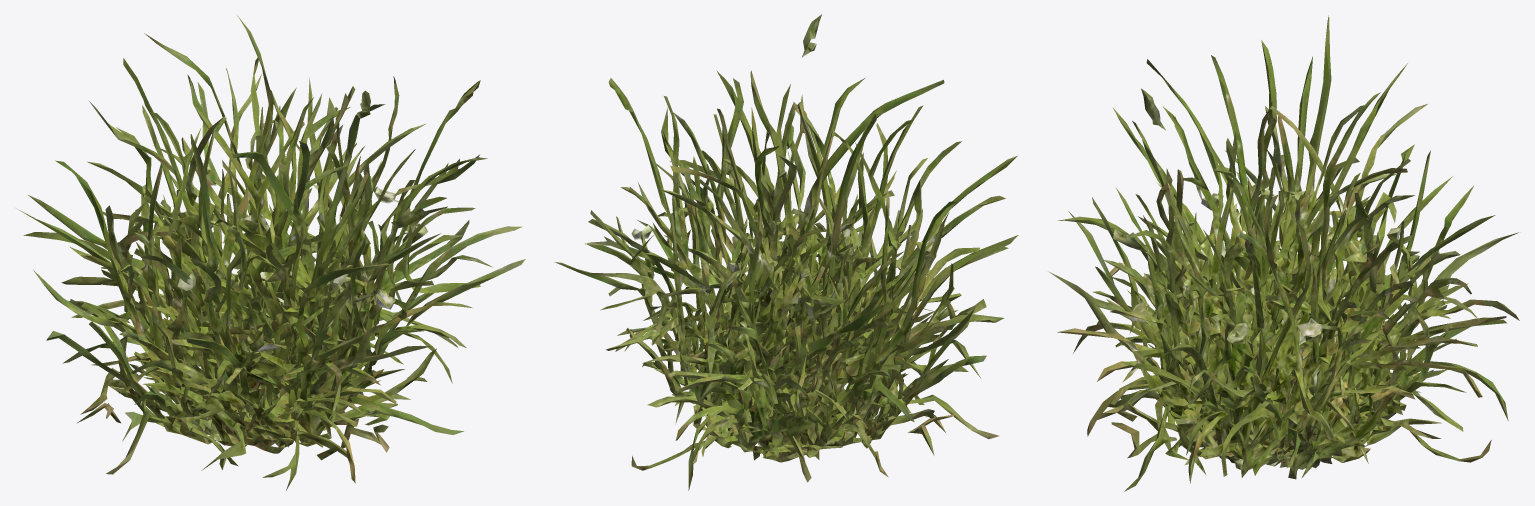
File: bank-grass-lod.glb
The picture shows the model from 3 angles, left to right: view 1: azimuth 30°, elevation 25°; view 2: azimuth 150°, elevation 25°; view 3: azimuth 270°, elevation 25°; orthographic projection. The views are drawn at different scales.
Parts seen in each view (by area): view 1: geometry_0; view 2: geometry_0; view 3: geometry_0.
Part boxes in pixels (x1,y1,x2,y2): geometry_0: (16, 14, 525, 490); geometry_0: (554, 14, 1018, 490); geometry_0: (1048, 15, 1519, 491).
Size of the model in its own units: 0.45 by 0.3838 by 0.4432.
1 material, 1 textured.
